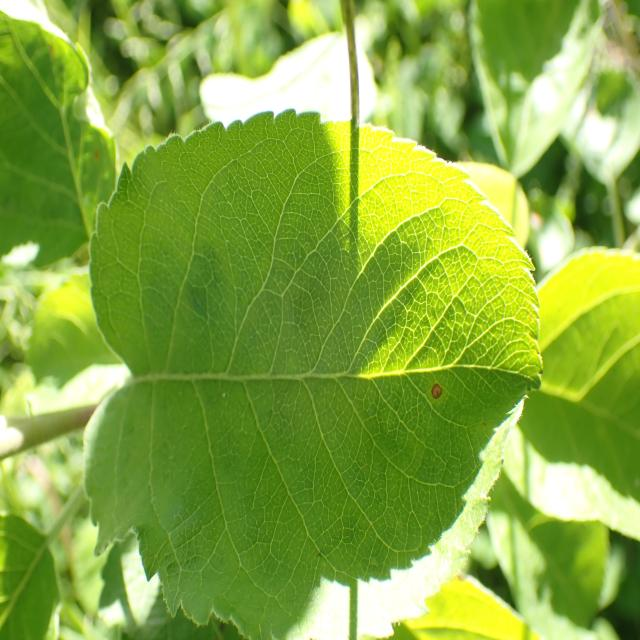Black Rot: (423, 357, 452, 436)
